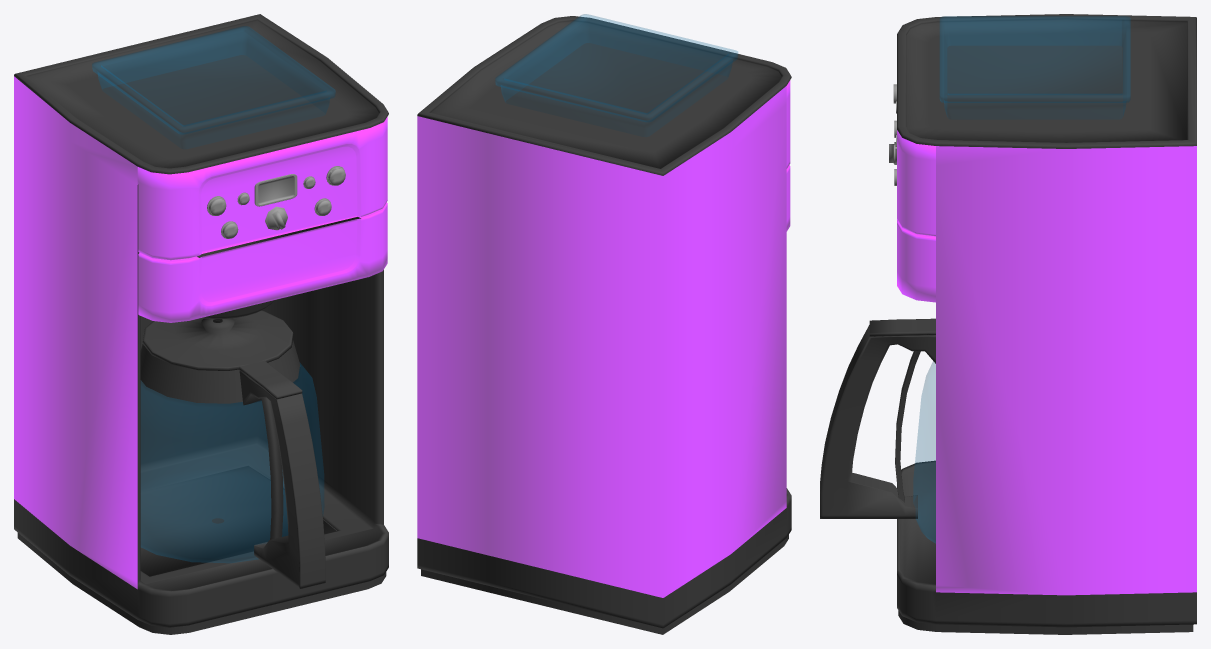
The picture shows the model from 3 angles, left to right: view 1: azimuth 30°, elevation 25°; view 2: azimuth 150°, elevation 25°; view 3: azimuth 270°, elevation 25°; orthographic projection. The views are drawn at different scales.
Parts seen in each view (by area): view 1: Cube; view 2: Cube; view 3: Cube.
Boxes of the visible parts, bbox=[...] form: Cube: bbox=[14, 14, 388, 634]; Cube: bbox=[417, 14, 791, 634]; Cube: bbox=[820, 14, 1196, 634].
Size of the model in its own units: 0.4041 by 0.7281 by 0.4845.
